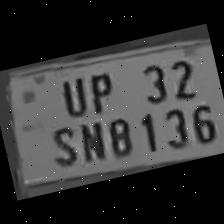1: (131, 107, 164, 156)
2: (162, 52, 200, 103)
3: (154, 102, 192, 152), (134, 57, 170, 105)
6: (183, 97, 220, 147)
8: (100, 111, 137, 159)
N: (72, 114, 109, 164)
P: (80, 66, 120, 114)
S: (42, 119, 82, 170)
U: (52, 70, 92, 119)
